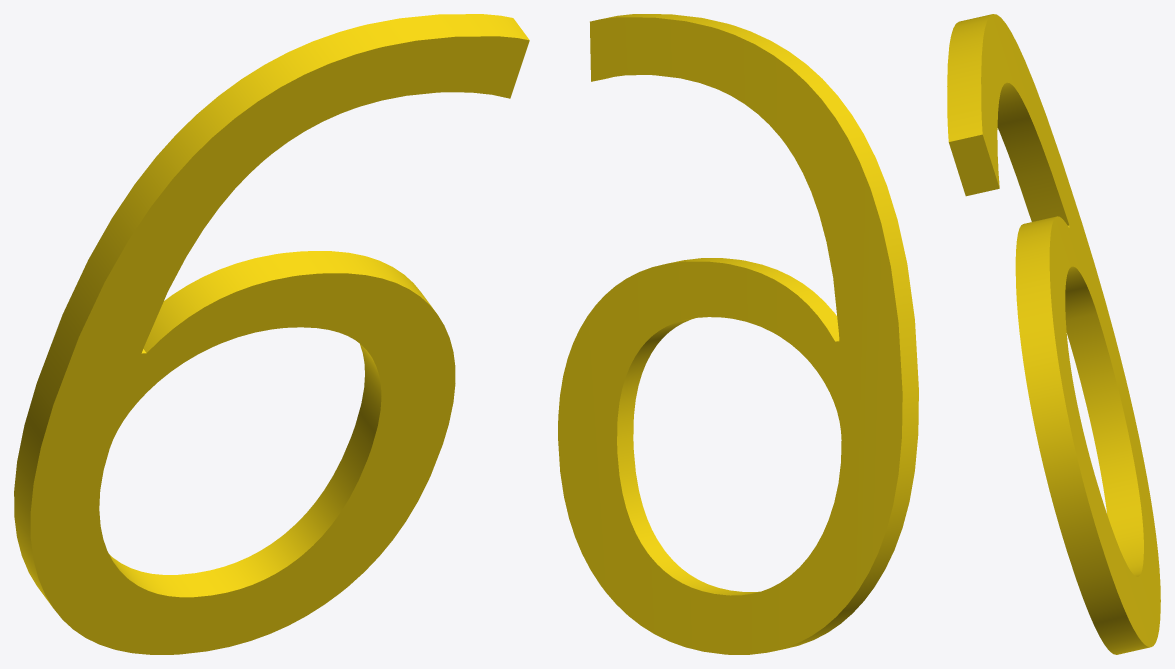
The model's file is Number_6.gltf.
The picture shows the model from 3 angles, left to right: view 1: azimuth 30°, elevation 25°; view 2: azimuth 150°, elevation 25°; view 3: azimuth 270°, elevation 25°; orthographic projection. The views are drawn at different scales.
Visible parts, largest first — view 1: Sub_3_Cell_2_3_Number_6; view 2: Sub_3_Cell_2_3_Number_6; view 3: Sub_3_Cell_2_3_Number_6.
Part boxes in pixels (x1,y1,x2,y2): Sub_3_Cell_2_3_Number_6: [14, 14, 529, 654]; Sub_3_Cell_2_3_Number_6: [558, 14, 918, 654]; Sub_3_Cell_2_3_Number_6: [947, 14, 1160, 654].
Size of the model in its own units: 0.017 by 0.0249 by 0.00771.
